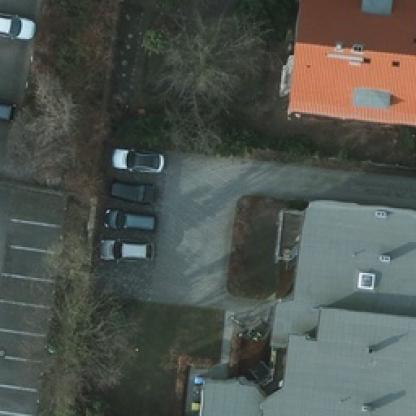car: (109, 143, 162, 171), (96, 236, 153, 260), (101, 208, 156, 231), (0, 6, 34, 42), (110, 180, 158, 202)
